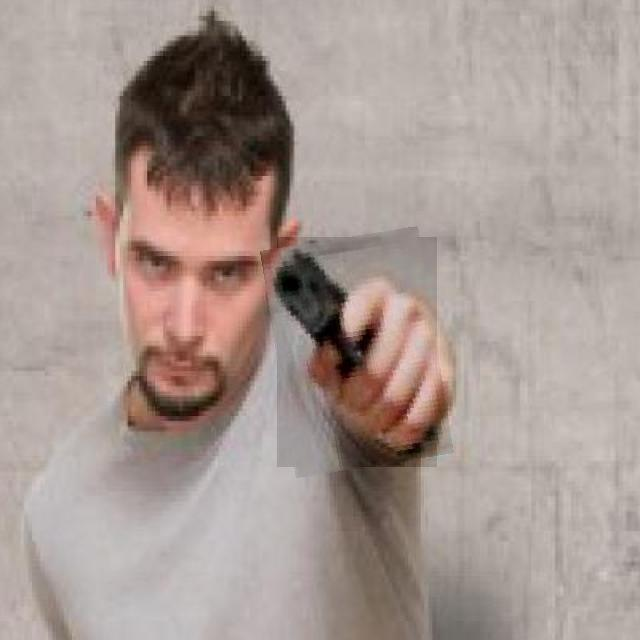Handgun: (269, 232, 446, 473)
